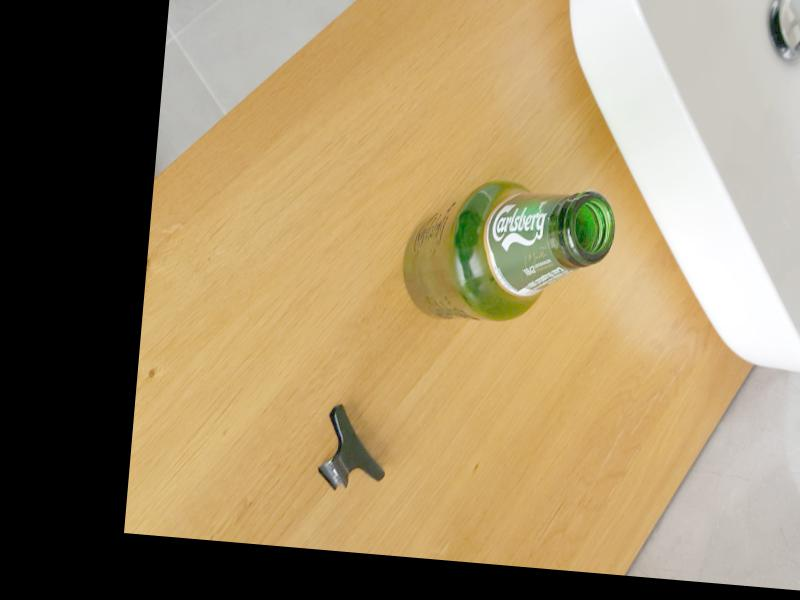Beer: (396, 174, 616, 330)
